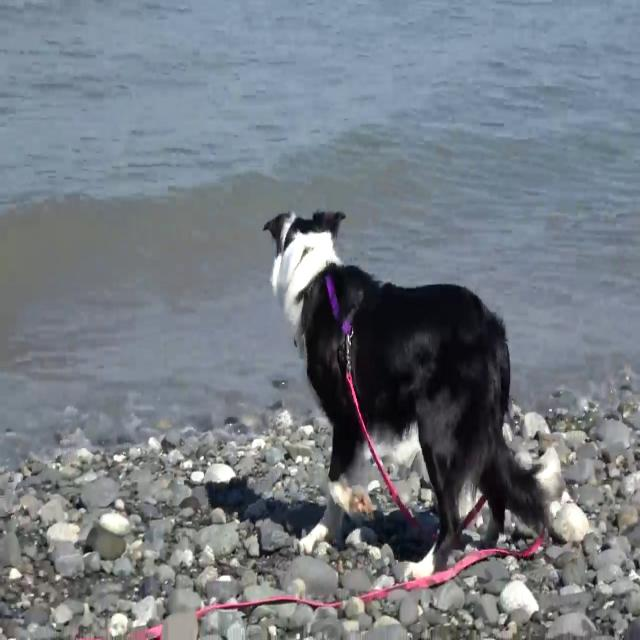Dog: (262, 210, 561, 582)
